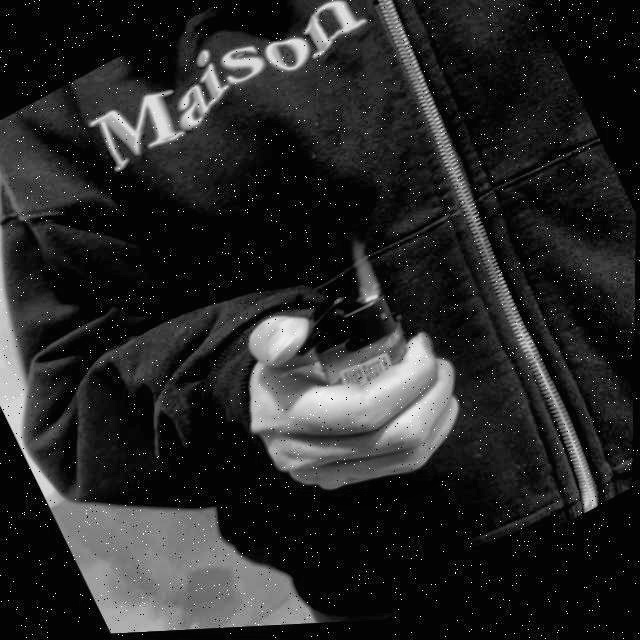Fire: (327, 231, 390, 311)
